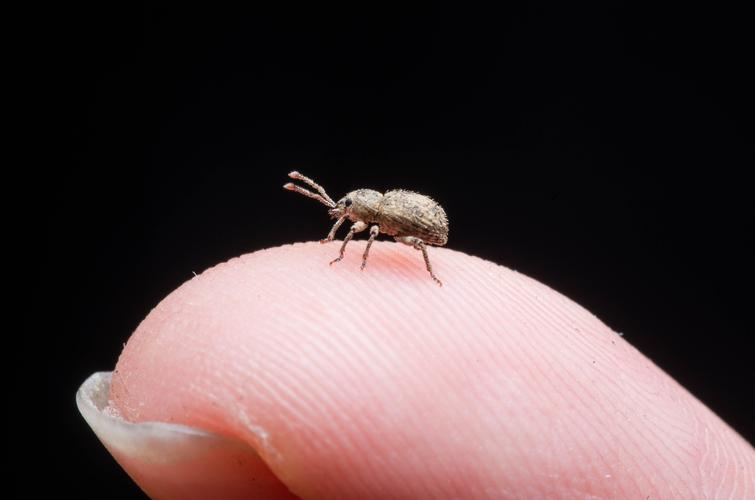Curculionidae: (281, 169, 451, 287)
